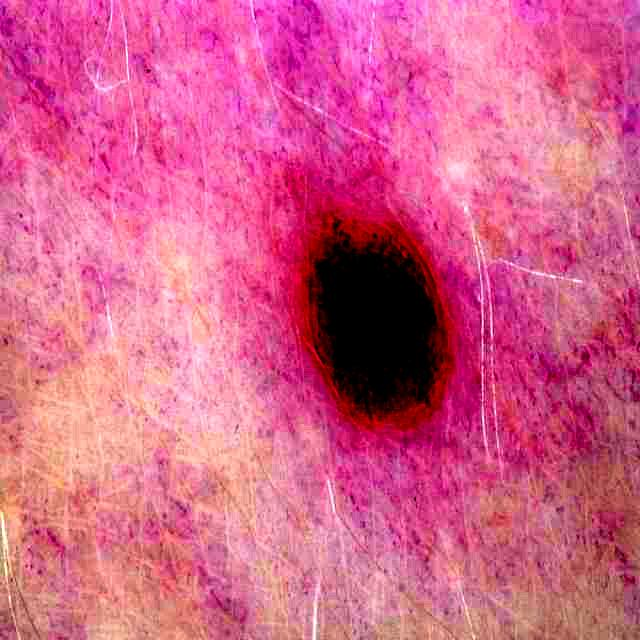VASC: (309, 219, 444, 419)
